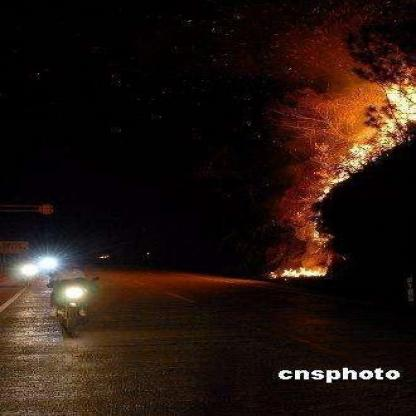fire: (272, 23, 405, 286)
other: (18, 242, 96, 308)
